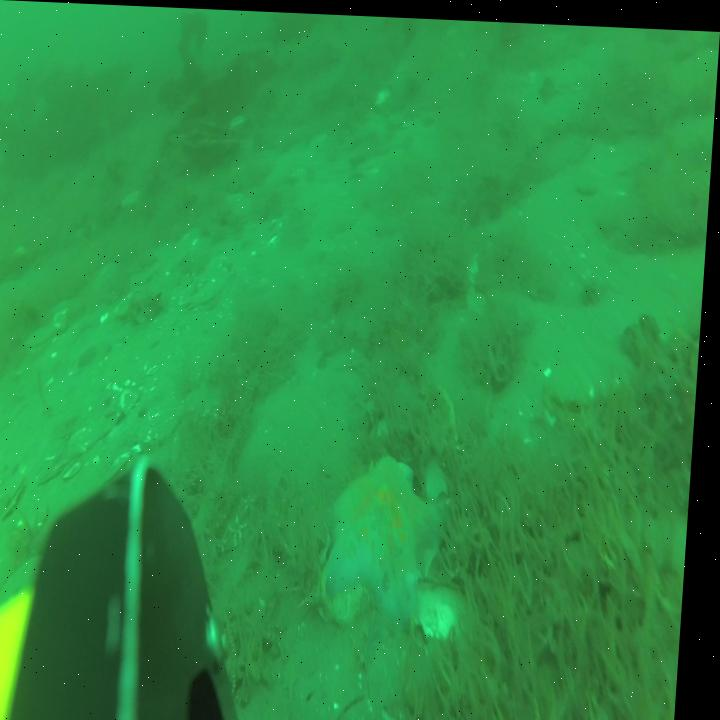scallop: (10, 471, 30, 520), (28, 323, 61, 349), (43, 456, 69, 485)
starfish: (331, 450, 449, 620)
